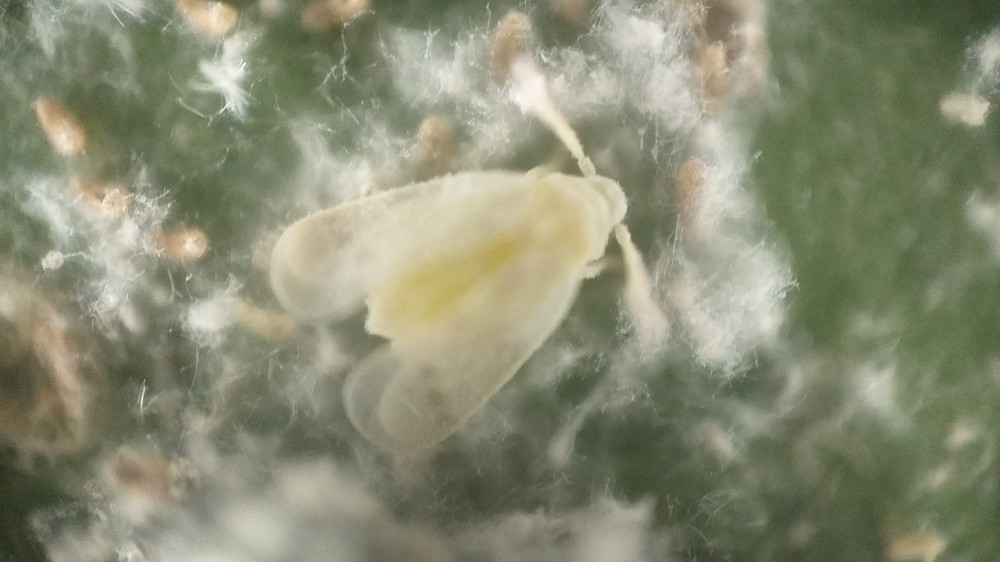Mosca Blanca: (260, 57, 679, 465)
